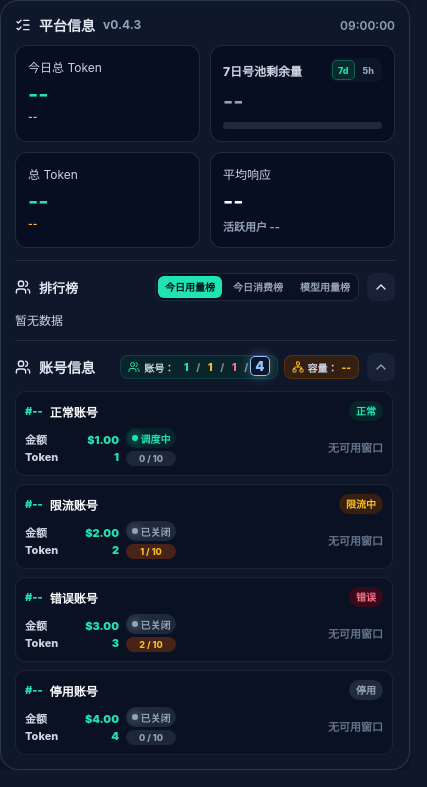
Test: App settings sync › filters group account details from status values and only toggles them from the arrow
Step 1. Click the 1st button with class "limited" → (210, 367), box [202,358,218,376]
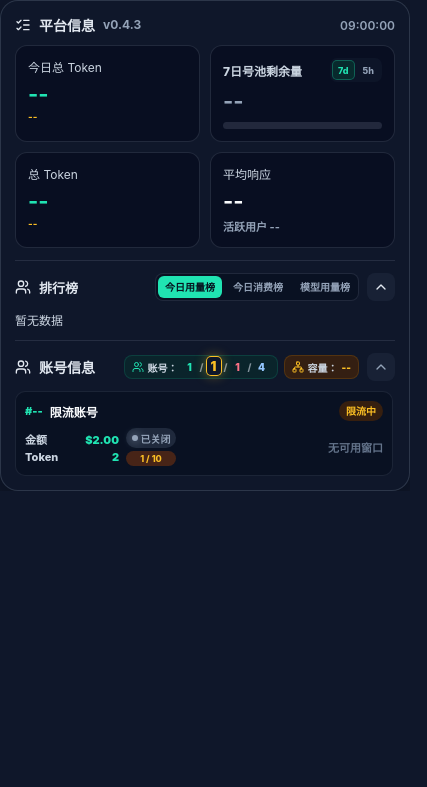
Now the text "正常账号" is gone
Now the text "错误账号" is gone
Now the text "停用账号" is gone
Step 2. Click the button with class "total" → (262, 367), box [254,358,270,376]
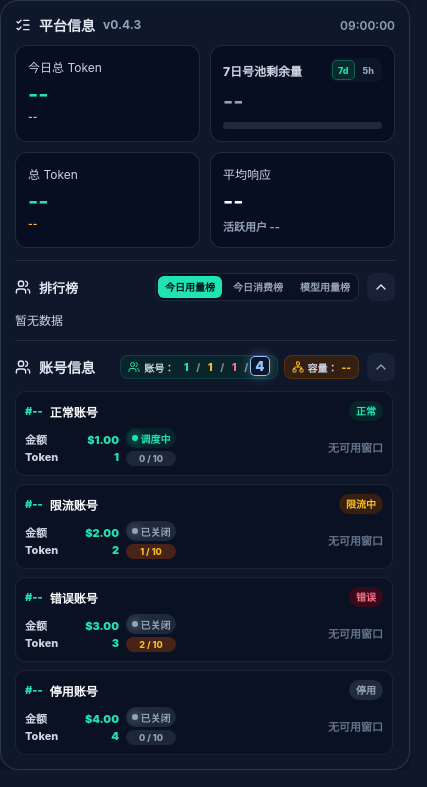
Now the text "正常账号" is shown, box [50,402,98,420]
Now the text "错误账号" is shown, box [50,588,98,606]
Now the text "停用账号" is shown, box [50,682,98,698]
